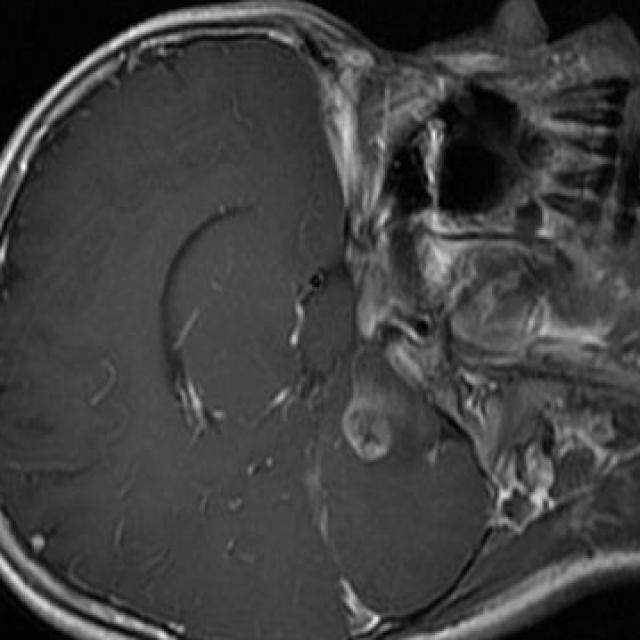glioma: (341, 382, 405, 464)
